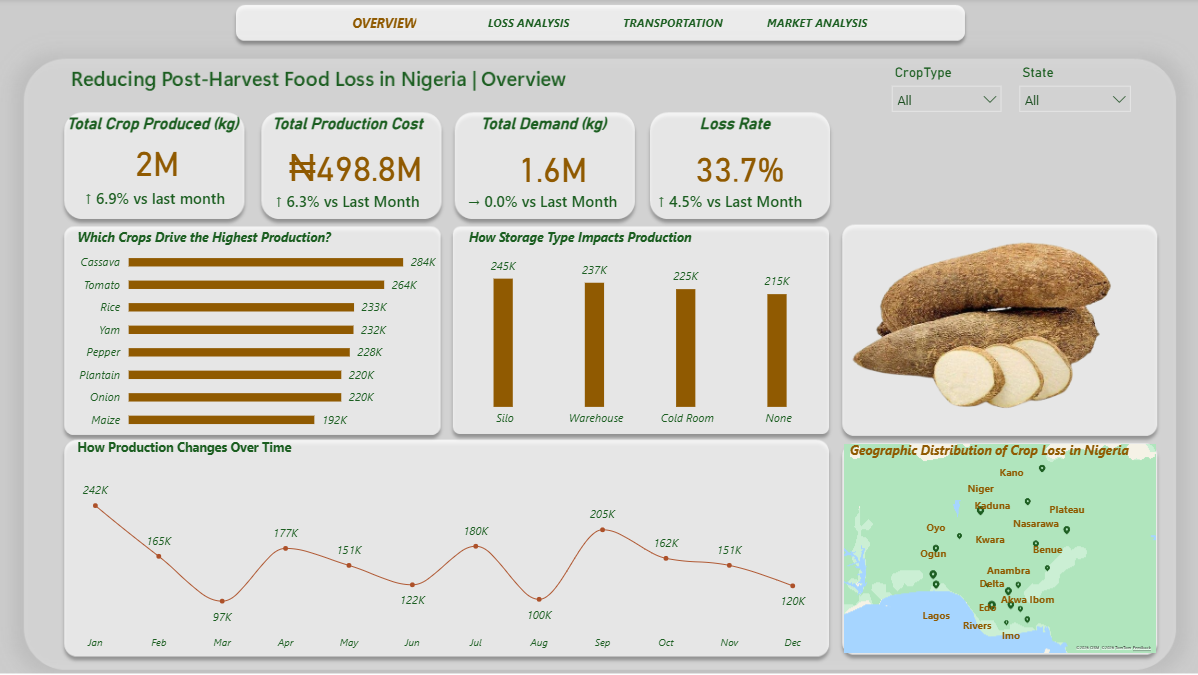

What the dashboard file says about the page in this screenshot:
{"tool":"powerbi","page":{"name":"OVERVIEW","canvas":[1280,720],"ordinal":0},"visuals":[{"type":"card","fields":{"Values":["_Measures.Total Production"]},"box":[120,148,102,50],"z":0},{"type":"card","fields":{"Values":["_Measures.Total Production Cost"]},"box":[303.8,151.9,153.9,52.7],"z":1000},{"type":"textbox","box":[81,239,415.2,28.4],"z":2000},{"type":"textbox","box":[287.9,117.7,171.8,38.2],"z":3000},{"type":"card","fields":{"Values":["_Measures_Overview.Loss Rate (%)"]},"box":[712.9,158,151.9,42.5],"z":4000},{"type":"textbox","box":[740.8,118.4,160,32],"z":5000},{"type":"card","fields":{"Values":["_Measures.Total Demand"]},"box":[502.3,155.9,174.2,46.6],"z":6000},{"type":"textbox","box":[509,117.7,163.8,39.8],"z":7000},{"type":"clusteredBarChart","fields":{"Category":["Dim_Crop.Crop_Type"],"Y":["_Measures.Total Production"]},"box":[76.1,252.3,395,213.8],"z":8000},{"type":"textbox","box":[70,117.6,206,56],"z":9000},{"type":"textbox","box":[496.2,239,352.4,42.5],"z":10000},{"type":"clusteredColumnChart","fields":{"Category":["farm_production.Storage_Type"],"Y":["_Measures_Overview.Total Spoilage"]},"box":[484,260,402,204],"z":11000},{"type":"lineChart","fields":{"Category":["Date Table.Month"],"Y":["_Measures.Total Production"]},"box":[73.2,483.5,803.3,216.3],"z":12000},{"type":"textbox","box":[81,461.8,285.6,28.4],"z":13000},{"type":"simpleImageEBC4593F96F1425FB3D84C5BF02B5075","fields":{"imageURL":["Crop_Image.Image Url"]},"box":[900,252,338,192],"z":14000},{"type":"pageNavigator","box":[340,14,602,24],"z":15000},{"type":"slicer","fields":{"Values":["Crop_Image.CropType"]},"box":[940,66,136,62],"z":16000},{"type":"slicer","fields":{"Values":["farm_production.State"]},"box":[1076,66,138,62],"z":17000},{"type":"cardVisual","fields":{"Data":["_Measures_Overview.Production KPI Text"]},"box":[65.2,182.9,229,55.7],"z":18000},{"type":"cardVisual","fields":{"Data":["_Measures_Overview.Cost Subtext"]},"box":[267.7,186.3,228.9,56.7],"z":19000},{"type":"cardVisual","fields":{"Data":["_Measures_Overview.Demand Subtext"]},"box":[470.1,186.3,228.9,56.7],"z":20000},{"type":"cardVisual","fields":{"Data":["_Measures_Overview.Spoilage Subtext"]},"box":[672.4,186.3,228.9,56.7],"z":21000},{"type":"azureMap","title":"Geographic Distribution of Food Loss in Nigeria","fields":{"Category":["farm_production.State"],"Size":["_Measures_Overview.Total Production"]},"box":[894.4,467.2,340.8,232],"z":22000},{"type":"textbox","box":[900.8,464,316.8,38.4],"z":23000}]}

Visuals, with their boxes in screenshot pixels (x1, y1, x2, y2), scaled from the page's 1280x720 canvas onto the 1198x675 screenshot:
card - _Measures.Total Production: crop(112, 139, 208, 186)
card - _Measures.Total Production Cost: crop(284, 142, 428, 192)
textbox: crop(76, 224, 464, 251)
textbox: crop(269, 110, 430, 146)
card - _Measures_Overview.Loss Rate (%): crop(667, 148, 809, 188)
textbox: crop(693, 111, 843, 141)
card - _Measures.Total Demand: crop(470, 146, 633, 190)
textbox: crop(476, 110, 630, 148)
clusteredBarChart - Dim_Crop.Crop_Type x _Measures.Total Production: crop(71, 237, 441, 437)
textbox: crop(66, 110, 258, 163)
textbox: crop(464, 224, 794, 264)
clusteredColumnChart - farm_production.Storage_Type x _Measures_Overview.Total Spoilage: crop(453, 244, 829, 435)
lineChart - Date Table.Month x _Measures.Total Production: crop(69, 453, 820, 656)
textbox: crop(76, 433, 343, 460)
simpleImageEBC4593F96F1425FB3D84C5BF02B5075 - Crop_Image.Image Url: crop(842, 236, 1159, 416)
pageNavigator: crop(318, 13, 882, 36)
slicer - Crop_Image.CropType: crop(880, 62, 1007, 120)
slicer - farm_production.State: crop(1007, 62, 1136, 120)
cardVisual - _Measures_Overview.Production KPI Text: crop(61, 171, 275, 224)
cardVisual - _Measures_Overview.Cost Subtext: crop(251, 175, 465, 228)
cardVisual - _Measures_Overview.Demand Subtext: crop(440, 175, 654, 228)
cardVisual - _Measures_Overview.Spoilage Subtext: crop(629, 175, 844, 228)
"Geographic Distribution of Food Loss in Nigeria" azureMap: crop(837, 438, 1156, 656)
textbox: crop(843, 435, 1140, 471)
